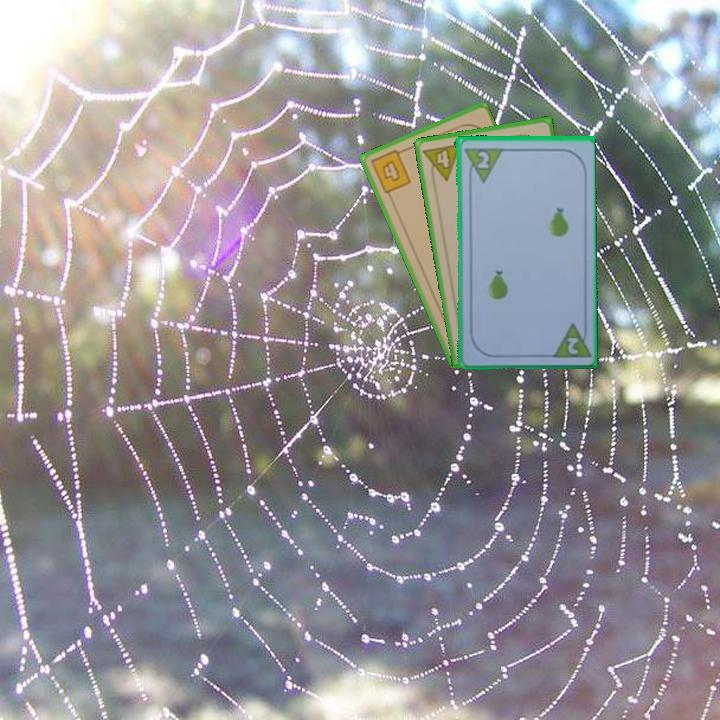2p: (460, 144, 504, 185), (564, 334, 581, 357)
4b: (367, 145, 414, 197)
4p: (420, 140, 464, 185)
